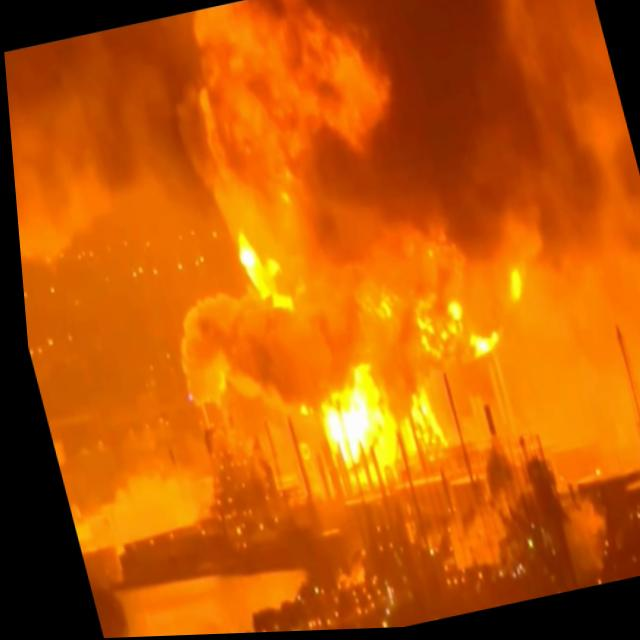Fire: (117, 0, 552, 538)
